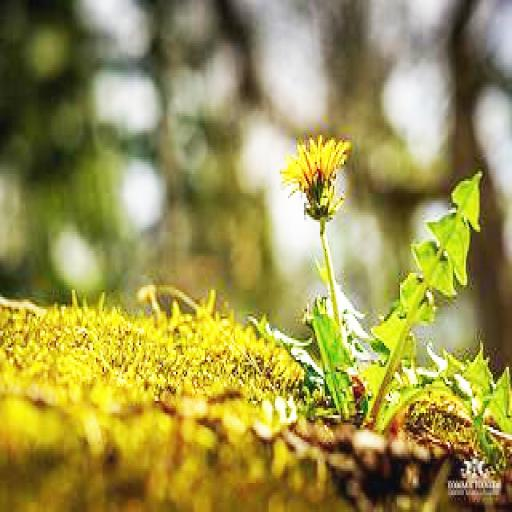dandelion: (278, 133, 350, 200)
